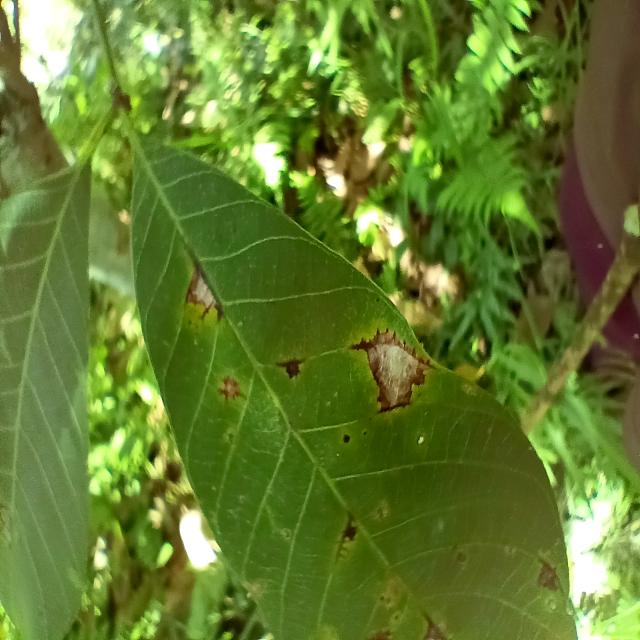Corynespora: (348, 326, 434, 371), (184, 258, 224, 320), (333, 510, 359, 565), (420, 611, 448, 640), (276, 358, 304, 380), (374, 402, 408, 414)
Leaf-Blight: (366, 336, 418, 404), (197, 275, 214, 308)
